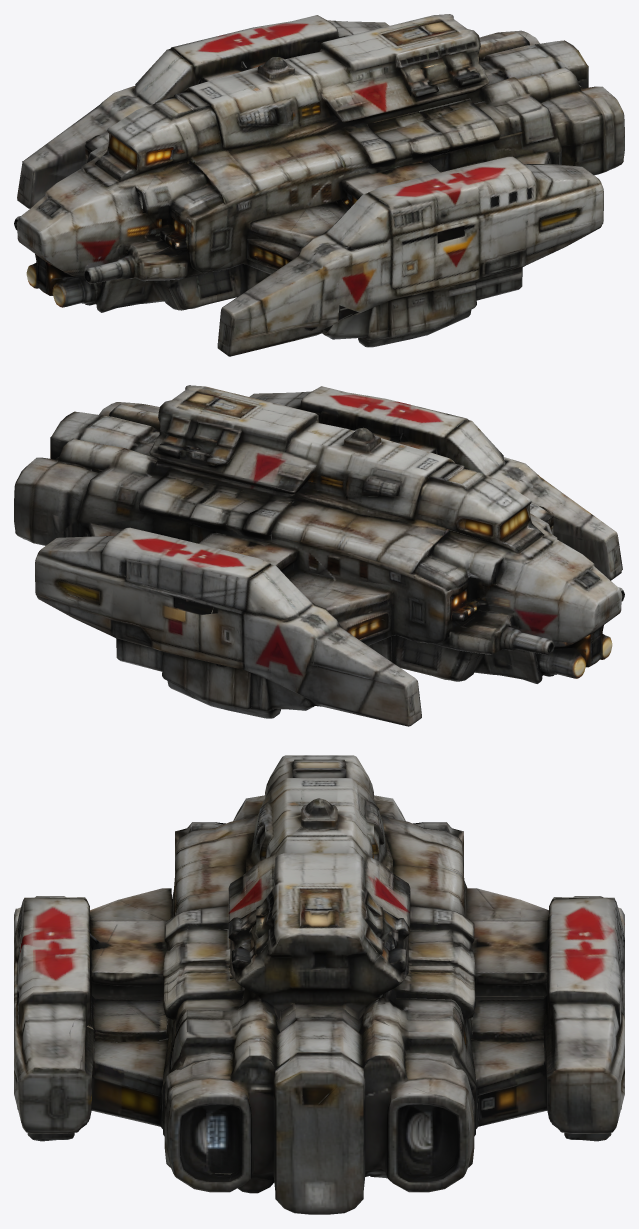
The model's file is Imperial_Frigate.glb.
3 renders of one model, top to bottom at view 1: azimuth 30°, elevation 25°; view 2: azimuth 150°, elevation 25°; view 3: azimuth 270°, elevation 25°, orthographic. The views are drawn at different scales.
Bounding box in the file's own units: 1.9 × 0.7202 × 1.38.
1 material, 1 textured.
